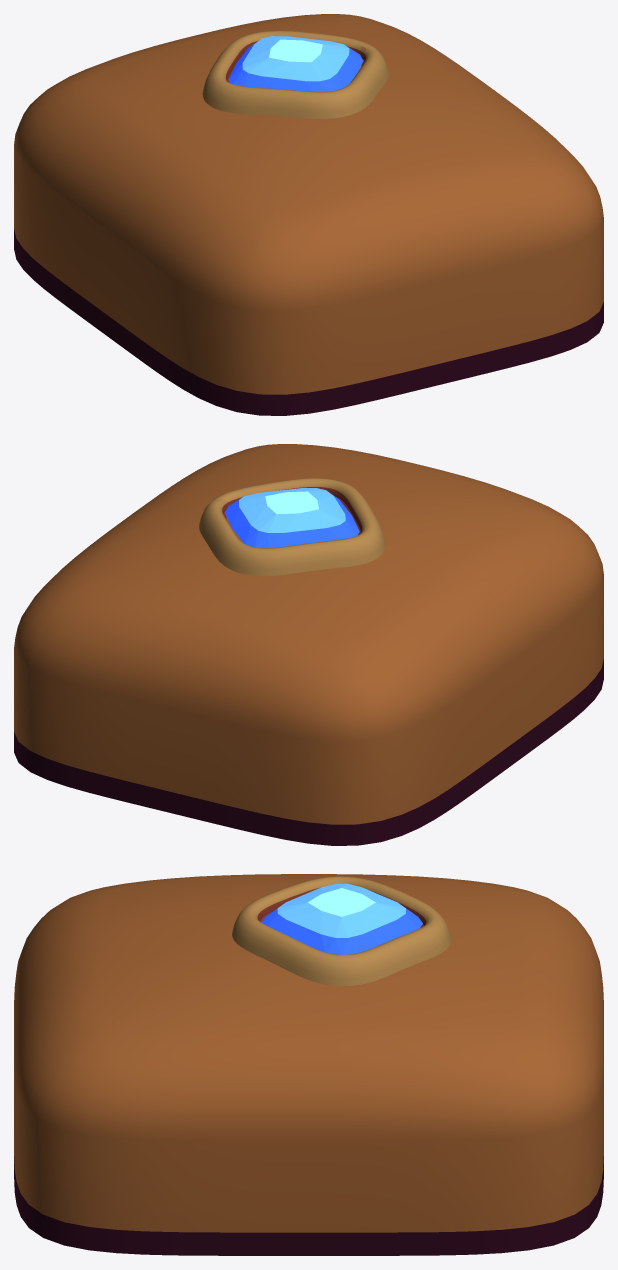
File: block_gem.glb
The picture shows the model from 3 angles, top to bottom: view 1: azimuth 30°, elevation 25°; view 2: azimuth 150°, elevation 25°; view 3: azimuth 270°, elevation 25°; orthographic projection. The views are drawn at different scales.
Parts seen in each view (by area): view 1: block, bezel, gem; view 2: block, bezel, gem; view 3: block, bezel, gem.
Boxes of the visible parts, <box> form: block: <box>14,14,603,415</box>; bezel: <box>202,31,389,118</box>; gem: <box>228,36,363,91</box>; block: <box>14,444,603,845</box>; bezel: <box>199,478,385,576</box>; gem: <box>224,488,359,548</box>; block: <box>14,874,603,1255</box>; bezel: <box>232,876,451,986</box>; gem: <box>261,883,422,954</box>.
Size of the model in its own units: 22 by 11.58 by 25.2.
